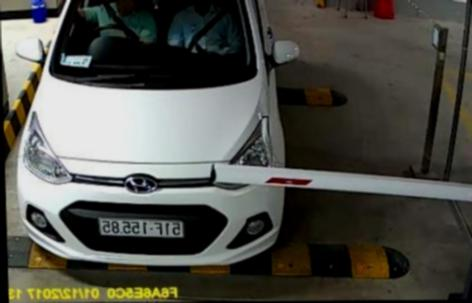License_Plate: (97, 214, 188, 238)
